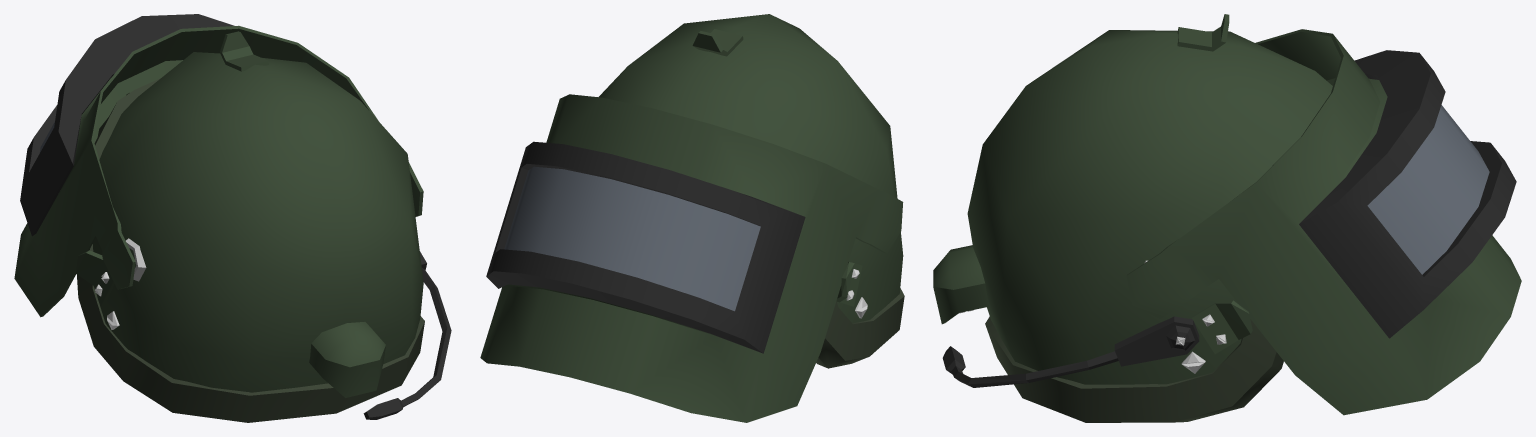
The model's file is helmet.glb.
The picture shows the model from 3 angles, left to right: view 1: azimuth 30°, elevation 25°; view 2: azimuth 150°, elevation 25°; view 3: azimuth 270°, elevation 25°; orthographic projection. The views are drawn at different scales.
Visible parts, largest first — view 1: Object_4, Object_8, Object_5, Object_6; view 2: Object_4, Object_13, Object_8, Object_5; view 3: Object_4, Object_8, Object_5, Object_13, Object_6.
Boxes of the visible parts, <box> form: Object_4: <box>14,25,423,397</box>; Object_8: <box>20,14,451,419</box>; Object_5: <box>77,78,424,422</box>; Object_6: <box>95,238,146,329</box>; Object_4: <box>480,14,903,422</box>; Object_13: <box>504,166,760,311</box>; Object_8: <box>486,141,805,353</box>; Object_5: <box>816,288,904,368</box>; Object_4: <box>933,14,1521,415</box>; Object_8: <box>942,50,1516,387</box>; Object_5: <box>985,316,1283,422</box>; Object_13: <box>1367,105,1489,274</box>; Object_6: <box>959,260,1226,373</box>.
Size of the model in its own units: 0.1826 by 0.1791 by 0.28.
